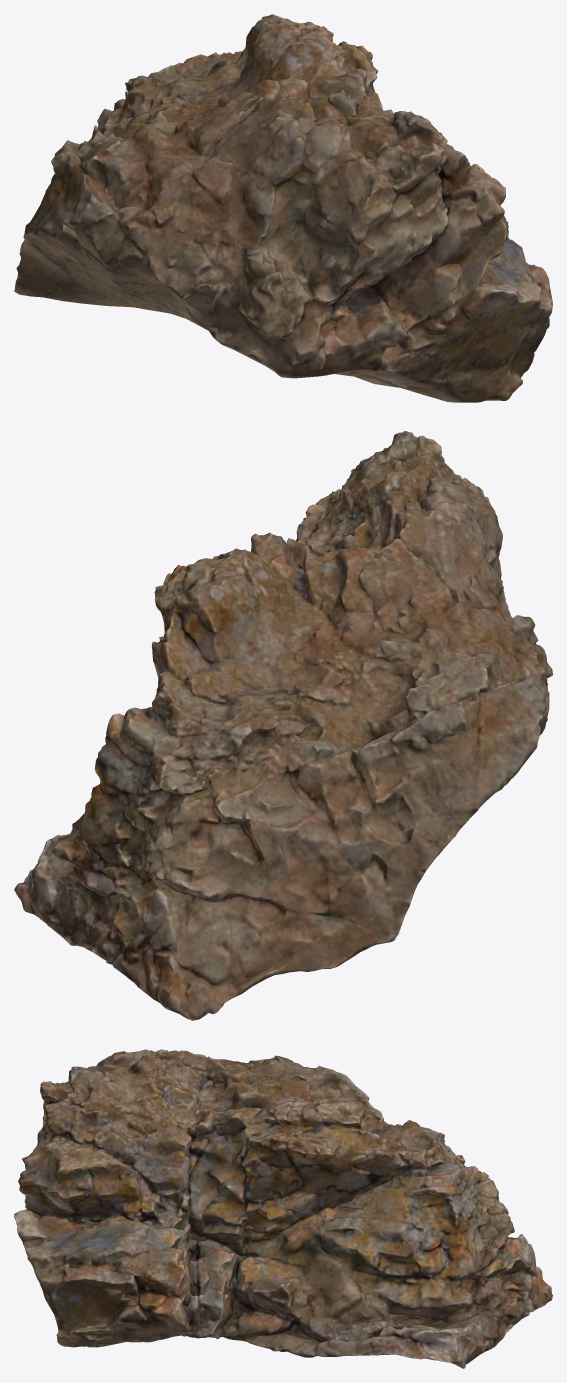
The model's file is boulder_01.glb.
3 views of the same model, one above another, from view 1: azimuth 30°, elevation 25°; view 2: azimuth 150°, elevation 25°; view 3: azimuth 270°, elevation 25° (orthographic). The views are drawn at different scales.
Visible parts, largest first — view 1: boulder_01; view 2: boulder_01; view 3: boulder_01.
Part boxes in pixels (x1,y1,x2,y2): boulder_01: (14,14,552,402); boulder_01: (14,431,552,1020); boulder_01: (14,1049,552,1368).
Bounding box in the file's own units: 1.27 × 1 × 1.83.
1 material, 1 textured.
